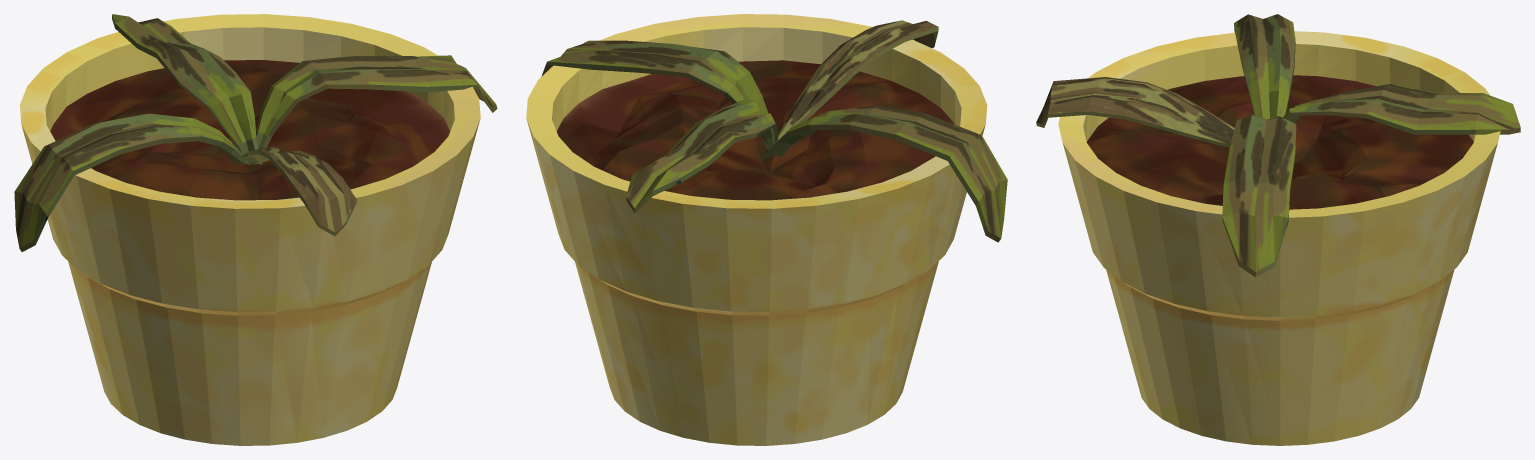
Rendered from Phalaenopsis_Dead_End.glb.
3 renders of one model, left to right at view 1: azimuth 30°, elevation 25°; view 2: azimuth 150°, elevation 25°; view 3: azimuth 270°, elevation 25°, orthographic. The views are drawn at different scales.
Parts seen in each view (by area): view 1: Pot.005, Plane.014; view 2: Pot.005, Plane.014; view 3: Pot.005, Plane.014.
Part boxes in pixels (box(x1,y1,x2,y2)): Pot.005: box(19, 14, 480, 445); Plane.014: box(14, 14, 497, 251); Pot.005: box(526, 14, 987, 445); Plane.014: box(541, 20, 1007, 242); Pot.005: box(1058, 31, 1500, 445); Plane.014: box(1036, 14, 1520, 277).
Bounding box in the file's own units: 2.42 × 1.51 × 2.24.
3 materials, 3 textured.
